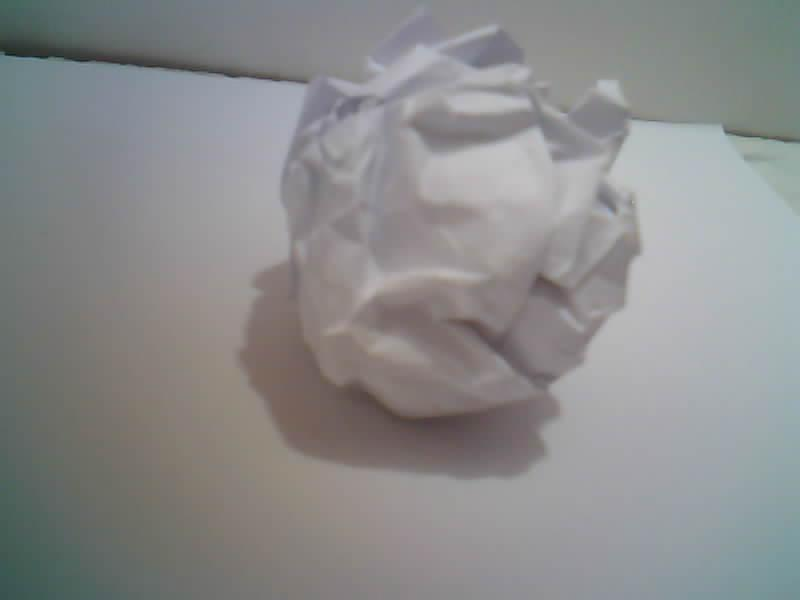biodegradable: (280, 11, 640, 417)
